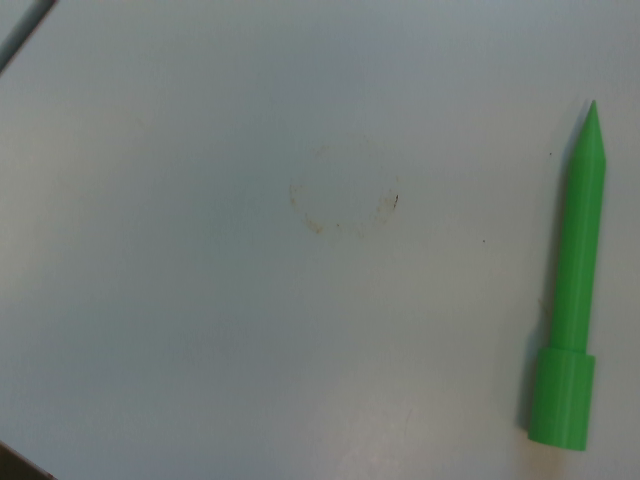Probe: (519, 93, 616, 460)
